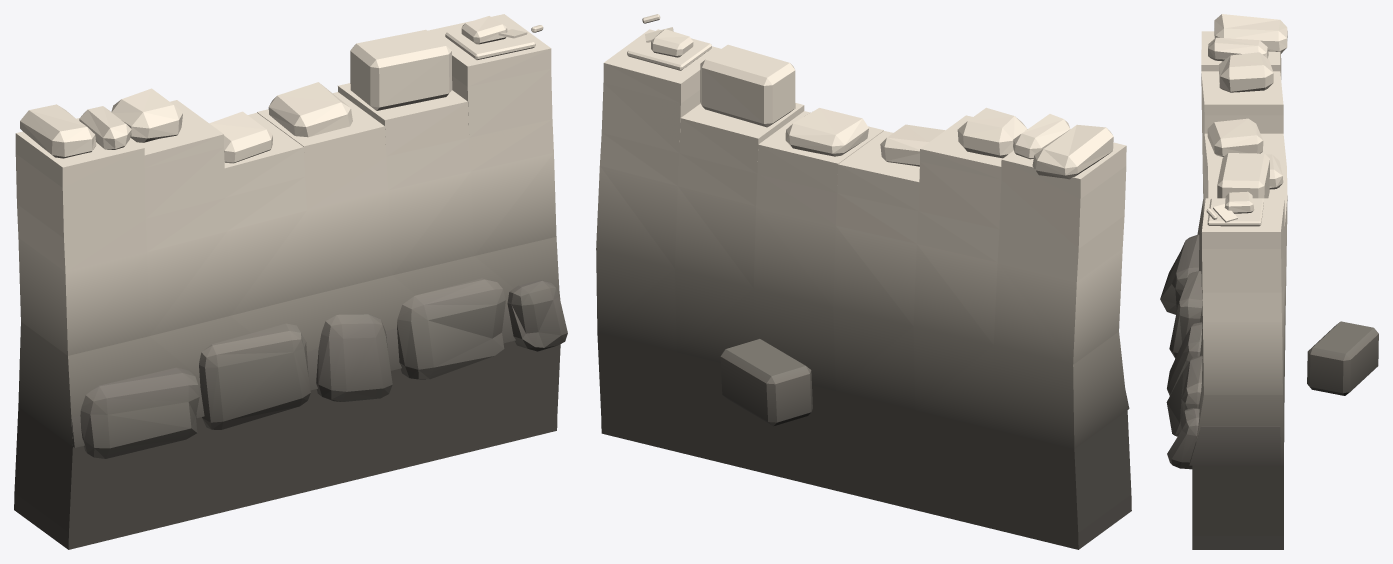
File: SM_VK_Wall_Stone_Half.fbx
The picture shows the model from 3 angles, left to right: view 1: azimuth 30°, elevation 25°; view 2: azimuth 150°, elevation 25°; view 3: azimuth 270°, elevation 25°; orthographic projection. The views are drawn at different scales.
Visible parts, largest first — view 1: SM_VK_Wall_Stone_Half.001; view 2: SM_VK_Wall_Stone_Half.001; view 3: SM_VK_Wall_Stone_Half.001.
Boxes of the visible parts, bbox=[...] form: SM_VK_Wall_Stone_Half.001: bbox=[14, 14, 567, 549]; SM_VK_Wall_Stone_Half.001: bbox=[596, 14, 1131, 549]; SM_VK_Wall_Stone_Half.001: bbox=[1160, 14, 1378, 549].
Size of the model in its own units: 3.04 by 2.37 by 1.38.
